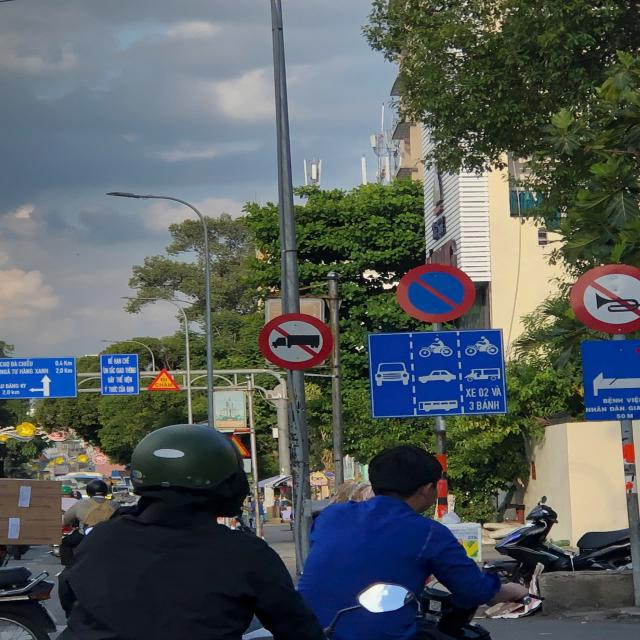Bien bao cam do xe: (384, 255, 484, 327)
Bien bao cam xe so-mi ro-mooc: (252, 298, 342, 373)
